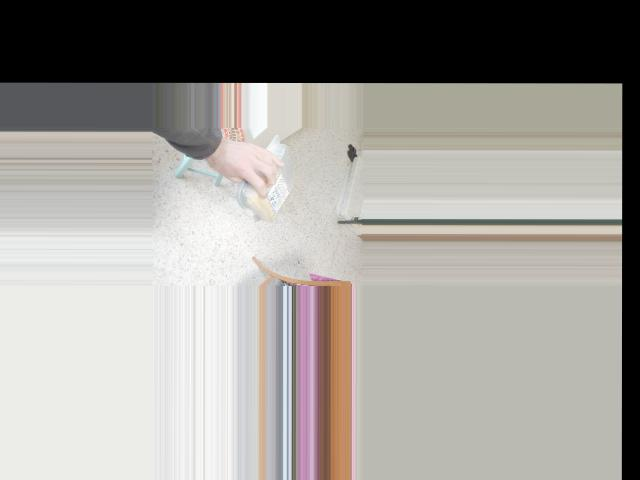cheese: (249, 140, 290, 229)
